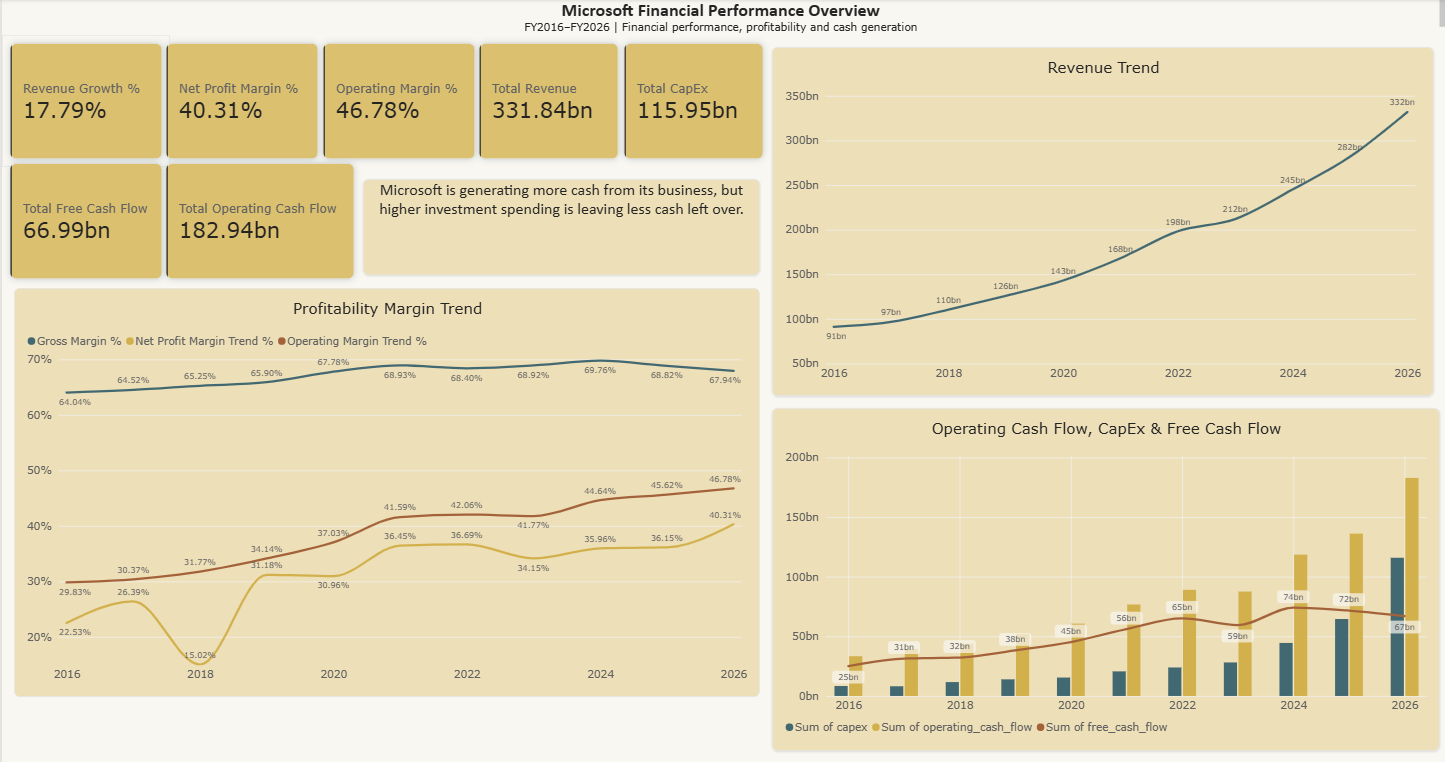

The dashboard page shown, as its layout file describes it:
{"tool":"powerbi","page":{"name":"Microsoft Financial Performance Overview","canvas":[1920,1080],"ordinal":0},"visuals":[{"type":"cardVisual","fields":{"Data":["microsoft_financials.Revenue Growth %"]},"box":[0,48,224,176],"z":0},{"type":"cardVisual","fields":{"Data":["microsoft_financials.Net Profit Margin %"]},"box":[208,48,224,176],"z":1000},{"type":"cardVisual","fields":{"Data":["microsoft_financials.Operating Margin %"]},"box":[416,48,224,176],"z":2000},{"type":"cardVisual","fields":{"Data":["microsoft_financials.Total CapEx"]},"box":[816,48,208,176],"z":3000},{"type":"cardVisual","fields":{"Data":["microsoft_financials.Total Free Cash Flow"]},"box":[0,208,224,176],"z":4000},{"type":"cardVisual","fields":{"Data":["microsoft_financials.Total Operating Cash Flow"]},"box":[208,208,272,176],"z":5000},{"type":"cardVisual","fields":{"Data":["microsoft_financials.Total Revenue"]},"box":[624,48,208,176],"z":6000},{"type":"lineChart","title":"Revenue Trend","fields":{"Category":["microsoft_financials.fiscal_year"],"Y":["Sum(microsoft_financials.revenue)"]},"box":[1024,64,880,464],"z":7000},{"type":"lineChart","title":"Profitability Margin Trend","fields":{"Y":["microsoft_financials.Gross Margin %","microsoft_financials.Net Profit Margin Trend %","microsoft_financials.Operating Margin Trend %"],"Category":["microsoft_financials.fiscal_year"]},"box":[16,384,992,544],"z":8000},{"type":"lineClusteredColumnComboChart","title":"Operating Cash Flow, CapEx & Free Cash Flow","fields":{"Category":["microsoft_financials.fiscal_year"],"Y2":["Sum(microsoft_financials.free_cash_flow)"],"Y":["Sum(microsoft_financials.capex)","Sum(microsoft_financials.operating_cash_flow)"]},"box":[1024,544,888,456],"z":9000},{"type":"textbox","box":[480,240,528,128],"z":10000},{"type":"textbox","box":[0,0,1920,48],"z":11000}]}

Visuals, with their boxes on the page's 1920x1080 design canvas (x1, y1, x2, y2). These are canvas units, not pixel positions in the 1445x762 screenshot, which may show the page scaled, cropped or inside an application window:
cardVisual - microsoft_financials.Revenue Growth %: left=0, top=48, right=224, bottom=224
cardVisual - microsoft_financials.Net Profit Margin %: left=208, top=48, right=432, bottom=224
cardVisual - microsoft_financials.Operating Margin %: left=416, top=48, right=640, bottom=224
cardVisual - microsoft_financials.Total CapEx: left=816, top=48, right=1024, bottom=224
cardVisual - microsoft_financials.Total Free Cash Flow: left=0, top=208, right=224, bottom=384
cardVisual - microsoft_financials.Total Operating Cash Flow: left=208, top=208, right=480, bottom=384
cardVisual - microsoft_financials.Total Revenue: left=624, top=48, right=832, bottom=224
"Revenue Trend" lineChart: left=1024, top=64, right=1904, bottom=528
"Profitability Margin Trend" lineChart: left=16, top=384, right=1008, bottom=928
"Operating Cash Flow, CapEx & Free Cash Flow" lineClusteredColumnComboChart: left=1024, top=544, right=1912, bottom=1000
textbox: left=480, top=240, right=1008, bottom=368
textbox: left=0, top=0, right=1920, bottom=48
